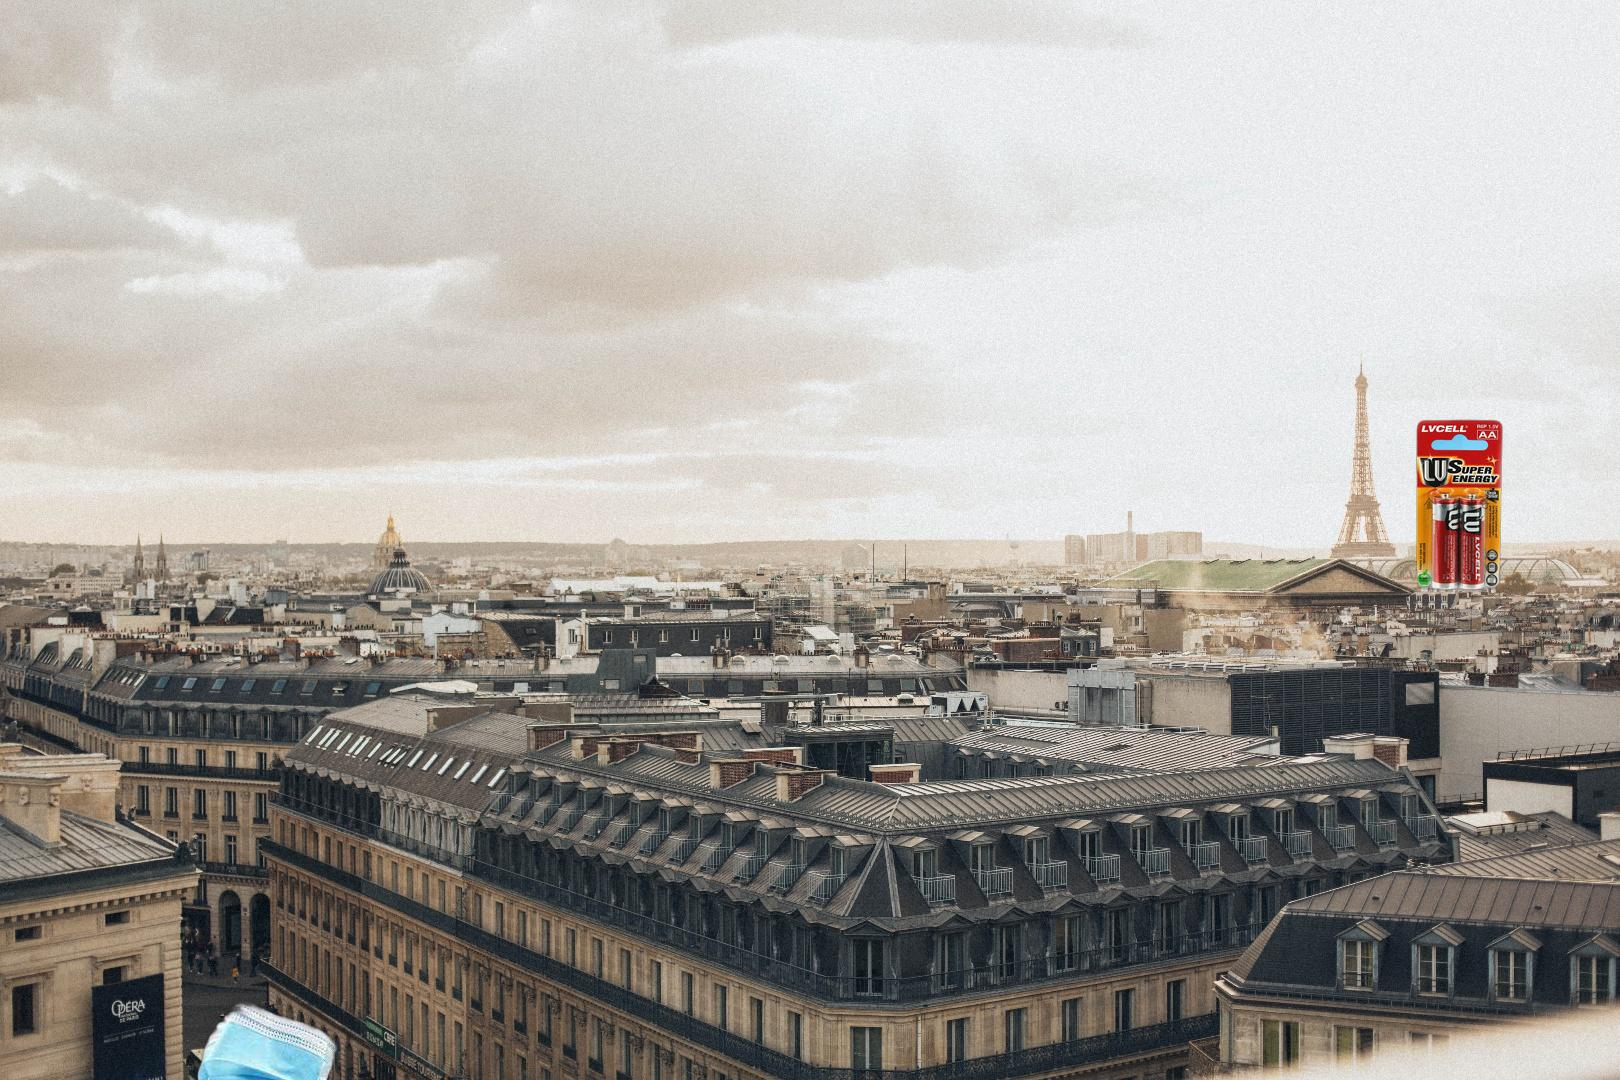battery: (1414, 417, 1505, 593)
trash: (193, 998, 341, 1080)
